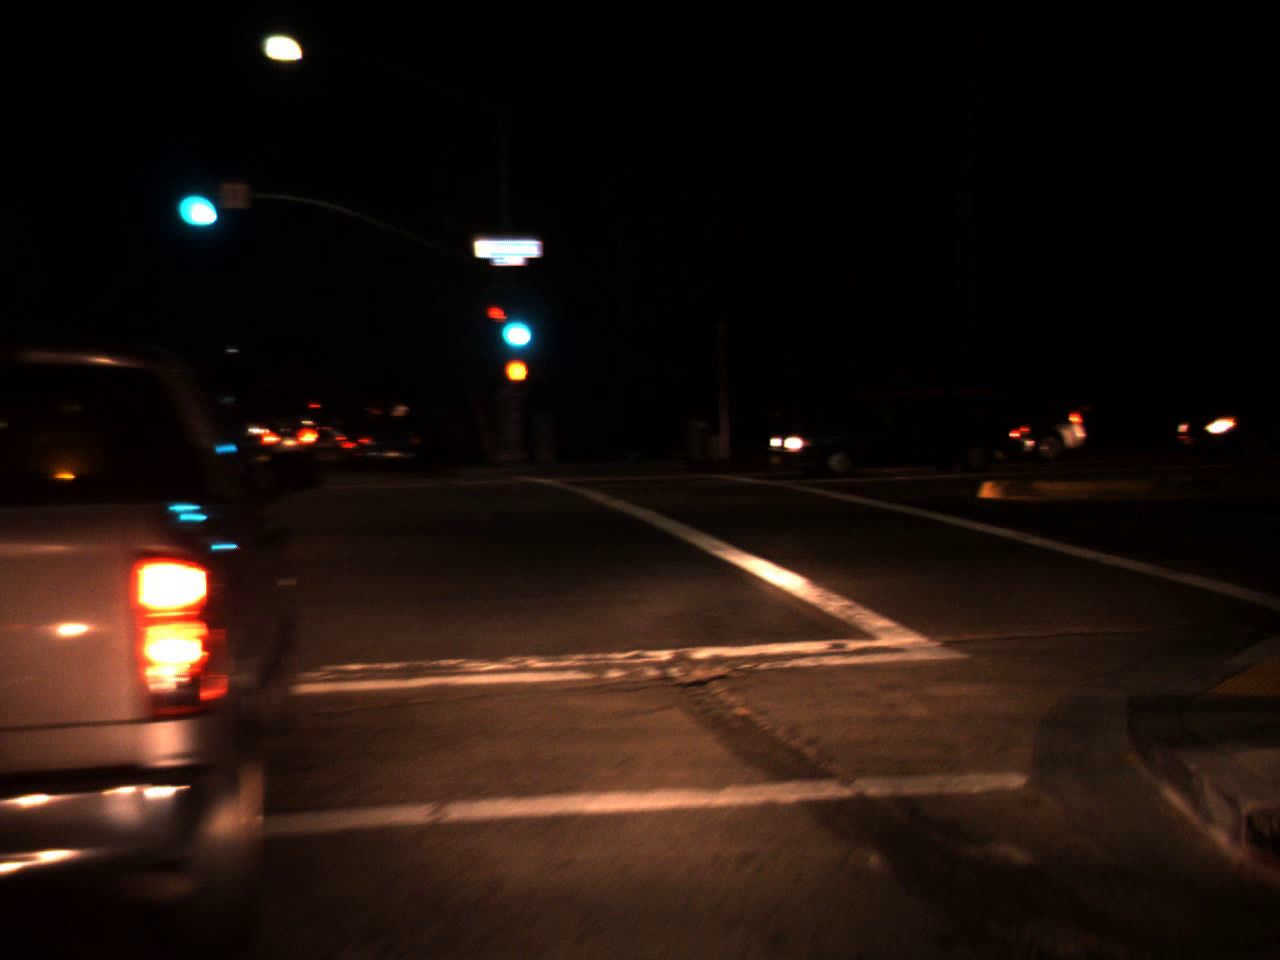go: (172, 161, 220, 239), (489, 288, 537, 357)
